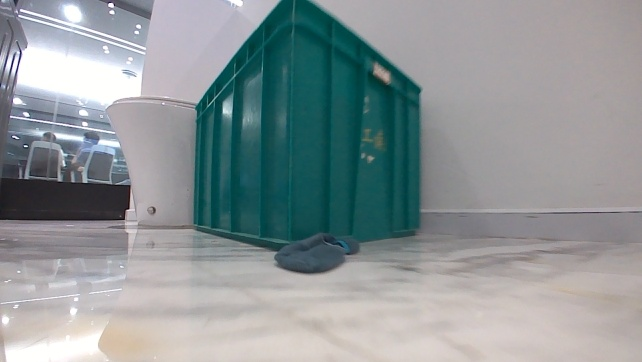socks: (275, 230, 366, 279)
toilet: (103, 94, 203, 228)
